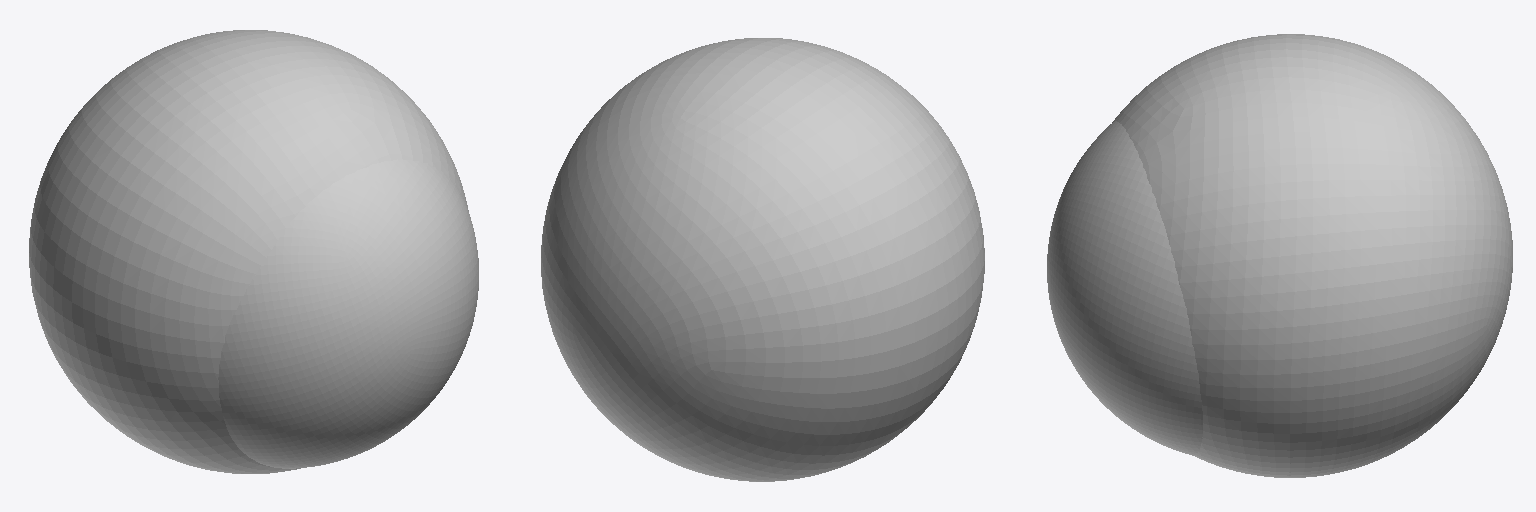
The model's file is dissapointed.obj.
The picture shows the model from 3 angles: view 1: azimuth 30°, elevation 25°; view 2: azimuth 150°, elevation 25°; view 3: azimuth 270°, elevation 25°; orthographic projection.
Parts seen in each view (by area): view 1: Group7782, ZBrush_def_ZBrush_def.002; view 2: Group7782; view 3: Group7782, ZBrush_def_ZBrush_def.002.
Part boxes in pixels (x1,y1,x2,y2): Group7782: (29,30,468,473); ZBrush_def_ZBrush_def.002: (218,159,478,468); Group7782: (541,38,984,481); Group7782: (1112,34,1512,477); ZBrush_def_ZBrush_def.002: (1047,121,1202,455).
Size of the model in its own units: 2.18 by 2.19 by 2.29.